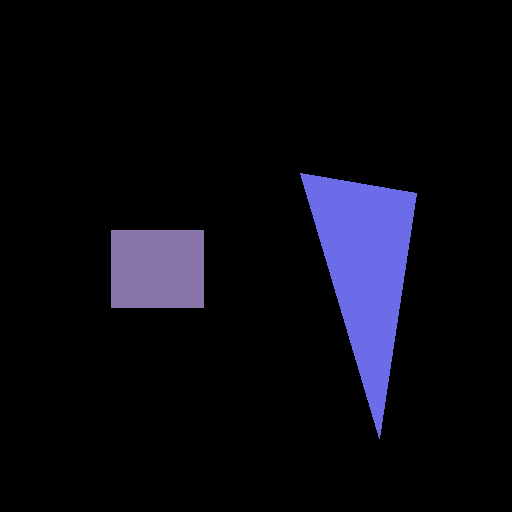rectangle: (111, 230, 203, 307)
triangle: (300, 173, 416, 438)
